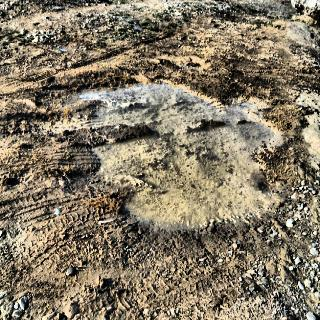pothole: (58, 69, 296, 243)
